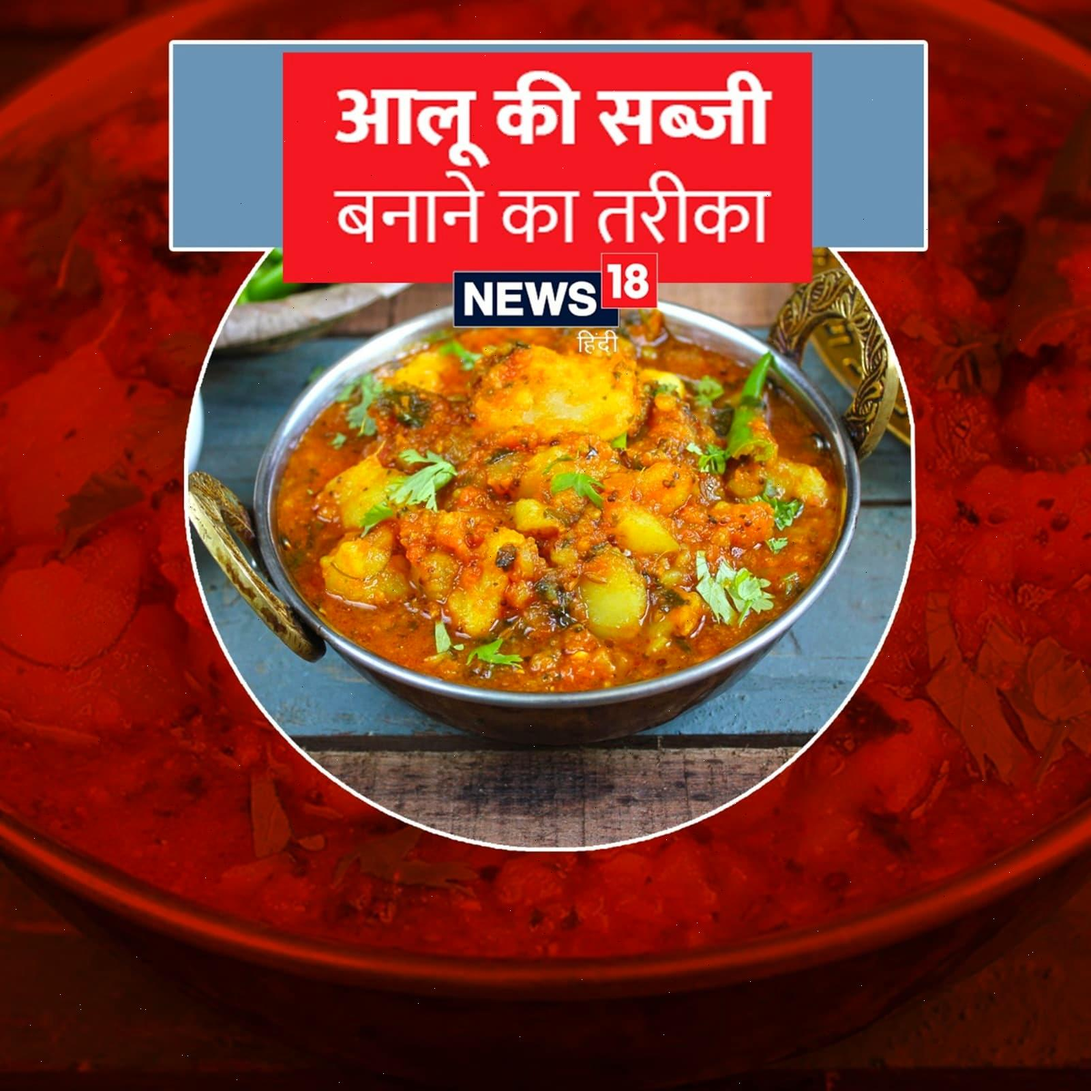aloo sabji: (315, 339, 796, 621)
